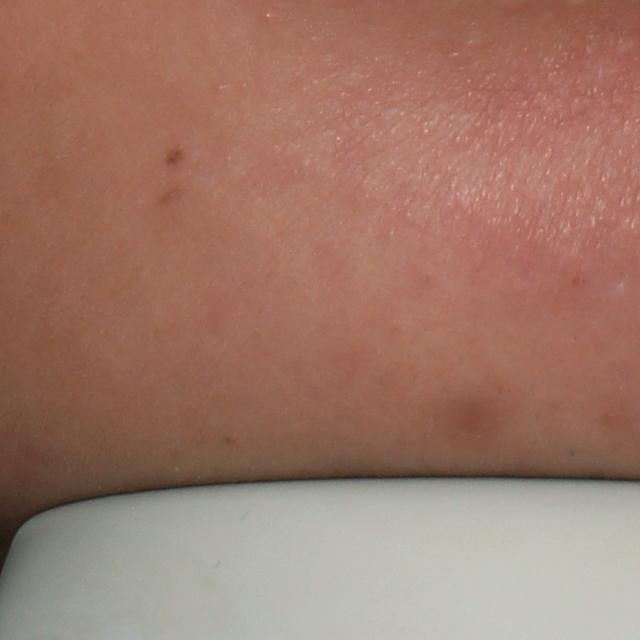nevus: (163, 142, 184, 167)
